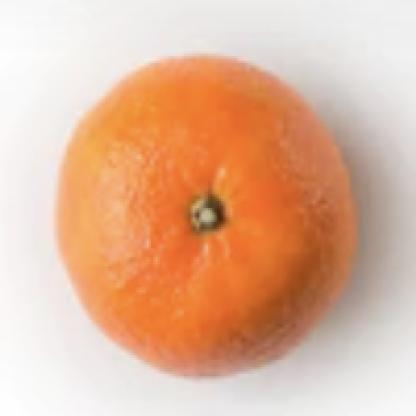fresh: (52, 54, 357, 377)
